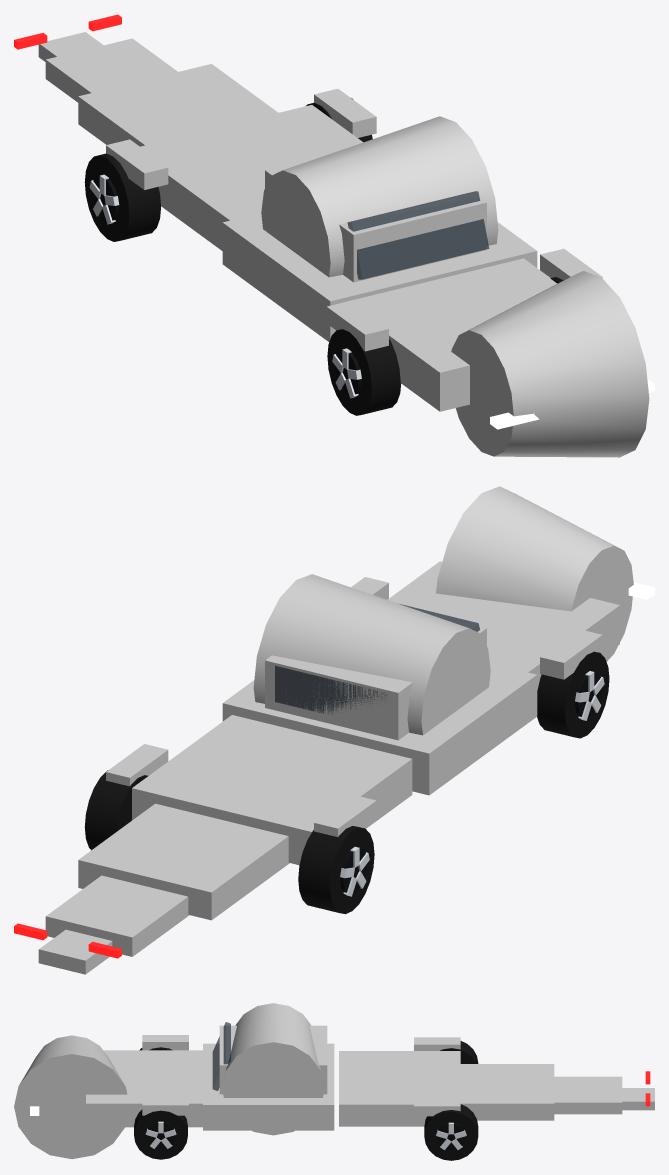
File: mcroar-great-white.glb
The picture shows the model from 3 angles, top to bottom: view 1: azimuth 30°, elevation 25°; view 2: azimuth 150°, elevation 25°; view 3: azimuth 270°, elevation 25°; orthographic projection. The views are drawn at different scales.
Visible parts, largest first — view 1: chassis, glass, wheel-front-left, wheel-back-left; view 2: chassis, wheel-back-left, wheel-front-left, wheel-back-right; view 3: chassis, wheel-back-right, wheel-front-right, glass, wheel-back-left.
Part boxes in pixels (x1=…): chassis: x1=14, y1=14, x2=654, y2=457; glass: x1=347, y1=191, x2=488, y2=279; wheel-front-left: x1=327, y1=329, x2=401, y2=415; wheel-back-left: x1=84, y1=153, x2=160, y2=241; chassis: x1=14, y1=486, x2=654, y2=974; wheel-back-left: x1=298, y1=826, x2=374, y2=914; wheel-front-left: x1=537, y1=651, x2=609, y2=738; wheel-back-right: x1=84, y1=770, x2=148, y2=850; chassis: x1=14, y1=1003, x2=654, y2=1159; wheel-back-right: x1=424, y1=1104, x2=478, y2=1160; wheel-front-right: x1=134, y1=1109, x2=187, y2=1159; glass: x1=212, y1=1022, x2=230, y2=1090; wheel-back-left: x1=440, y1=1041, x2=478, y2=1063.
Bounding box in the file's own units: 1.91 × 1.45 × 6.84.
